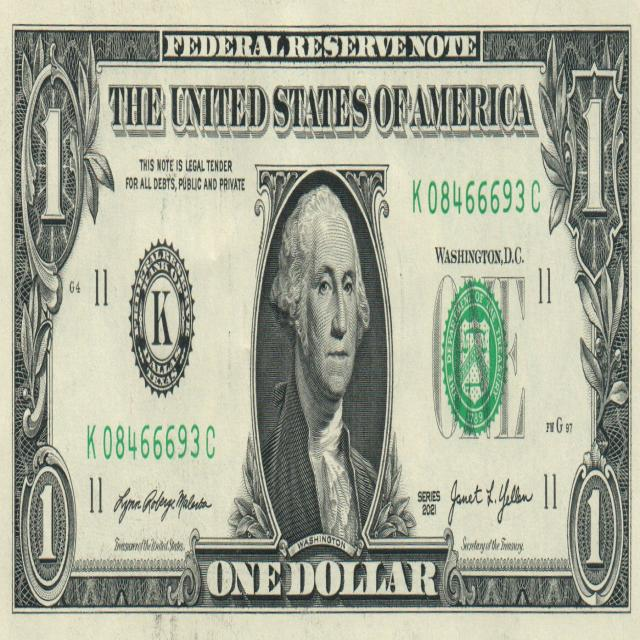SerialNumber: (413, 179, 540, 214), (88, 425, 214, 460)
